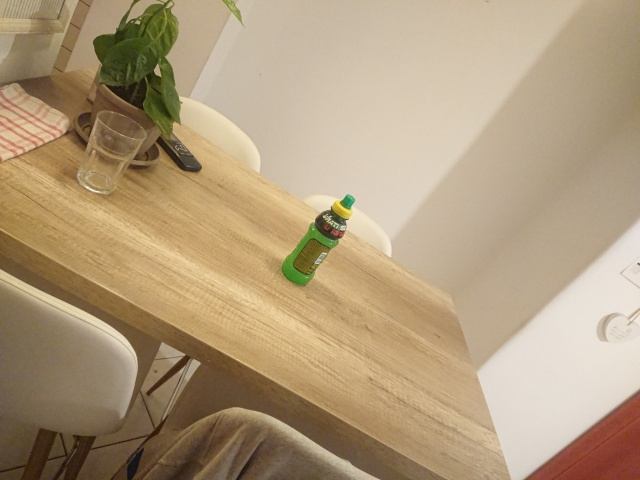Vindi Iso Sport Lemon-Grapefruit 500mL: (279, 192, 357, 287)
